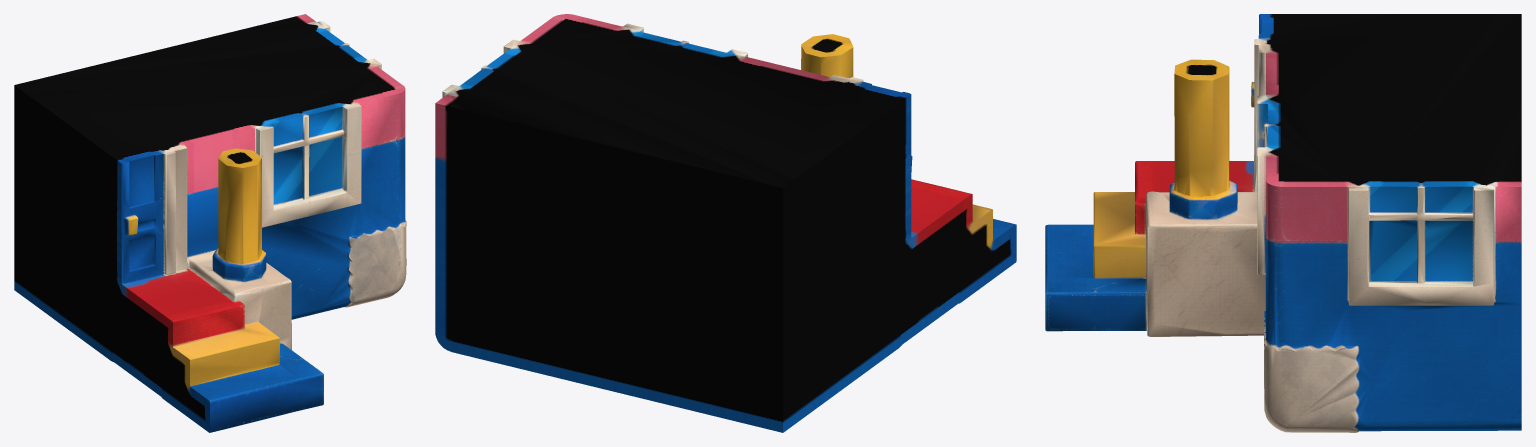
Rendered from 2-ground-floor-front-right.fbx.
The picture shows the model from 3 angles, left to right: view 1: azimuth 30°, elevation 25°; view 2: azimuth 150°, elevation 25°; view 3: azimuth 270°, elevation 25°; orthographic projection. The views are drawn at different scales.
Parts seen in each view (by area): view 1: ground-floor-front-right; view 2: ground-floor-front-right; view 3: ground-floor-front-right.
Part boxes in pixels (x1,y1,x2,y2): ground-floor-front-right: [14, 14, 406, 432]; ground-floor-front-right: [435, 14, 1016, 432]; ground-floor-front-right: [1045, 14, 1521, 432].
Bounding box in the file's own units: 4818 × 3197 × 5494.
Materials: 1 (1 with a texture image).
